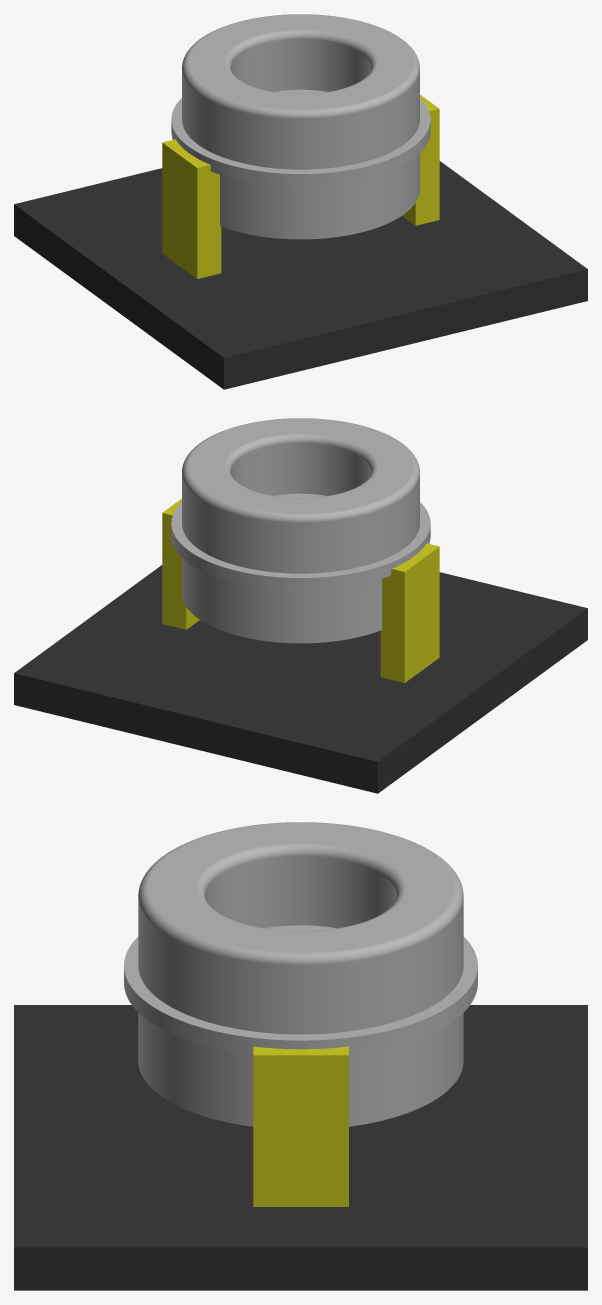
File: reactor_test_stand.gltf
The picture shows the model from 3 angles, top to bottom: view 1: azimuth 30°, elevation 25°; view 2: azimuth 150°, elevation 25°; view 3: azimuth 270°, elevation 25°; orthographic projection. The views are drawn at different scales.
Parts seen in each view (by area): view 1: Concrete_Pad, Orbitron_Reactor, Strut_Right, Strut_Left; view 2: Concrete_Pad, Orbitron_Reactor, Strut_Right, Strut_Left; view 3: Concrete_Pad, Orbitron_Reactor, Strut_Left.
Part boxes in pixels (<box>): Concrete_Pad: <box>14,161,587,389</box>; Orbitron_Reactor: <box>171,14,430,239</box>; Strut_Right: <box>162,139,221,278</box>; Strut_Left: <box>402,94,439,225</box>; Concrete_Pad: <box>14,565,587,793</box>; Orbitron_Reactor: <box>171,418,430,643</box>; Strut_Right: <box>380,543,439,682</box>; Strut_Left: <box>162,498,199,629</box>; Concrete_Pad: <box>14,1005,587,1290</box>; Orbitron_Reactor: <box>124,822,477,1126</box>; Strut_Left: <box>253,1046,348,1206</box>.
Size of the model in its own units: 6 by 3.25 by 6.
